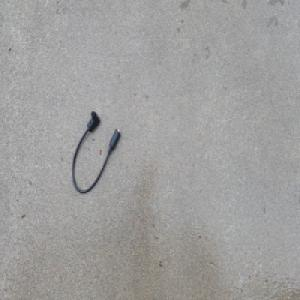Wire: (71, 109, 120, 196)
